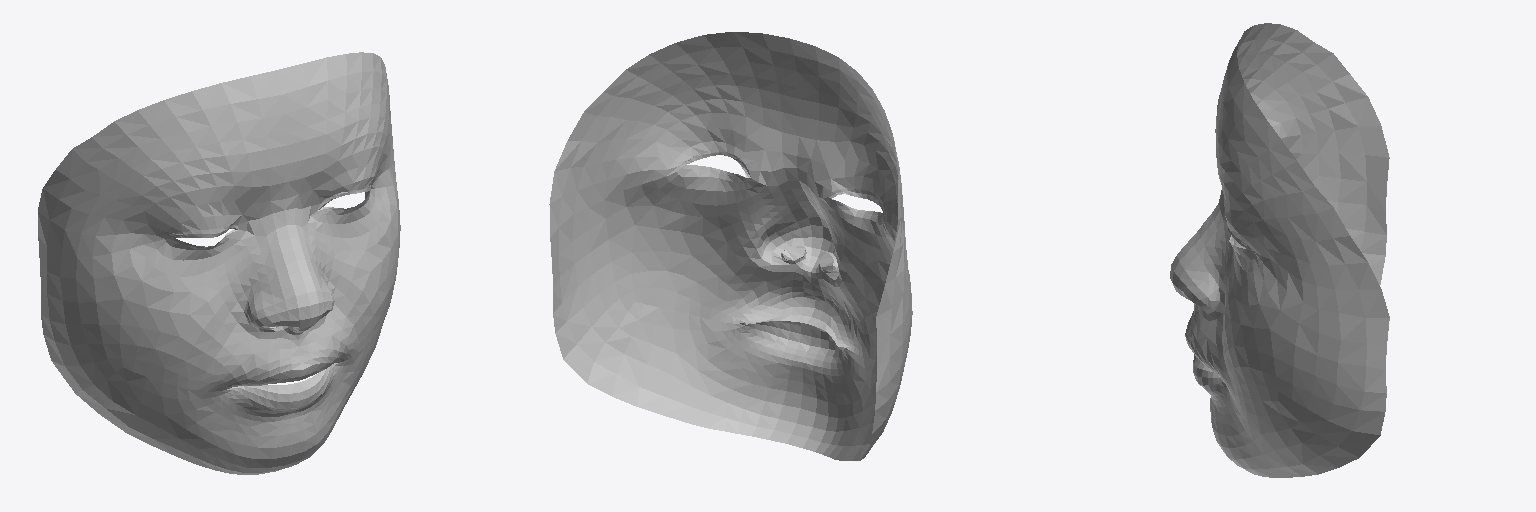
File: eyeLookDown_R.obj
3 views of the same model, side by side, from view 1: azimuth 30°, elevation 25°; view 2: azimuth 150°, elevation 25°; view 3: azimuth 270°, elevation 25° (orthographic).
Parts seen in each view (by area): view 1: default; view 2: default; view 3: default.
Boxes of the visible parts, box(x1,y1,x2,y2) form: default: box(38, 52, 400, 474); default: box(549, 32, 912, 460); default: box(1170, 23, 1389, 477).
Bounding box in the file's own units: 0.1624 × 0.1851 × 0.0913.